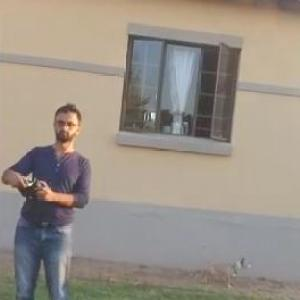follow: (0, 96, 97, 299)
null: (192, 238, 253, 290)
